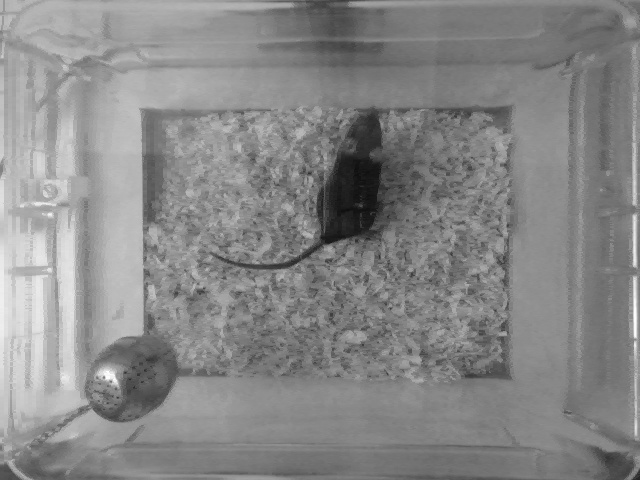mice: (204, 103, 399, 271)
